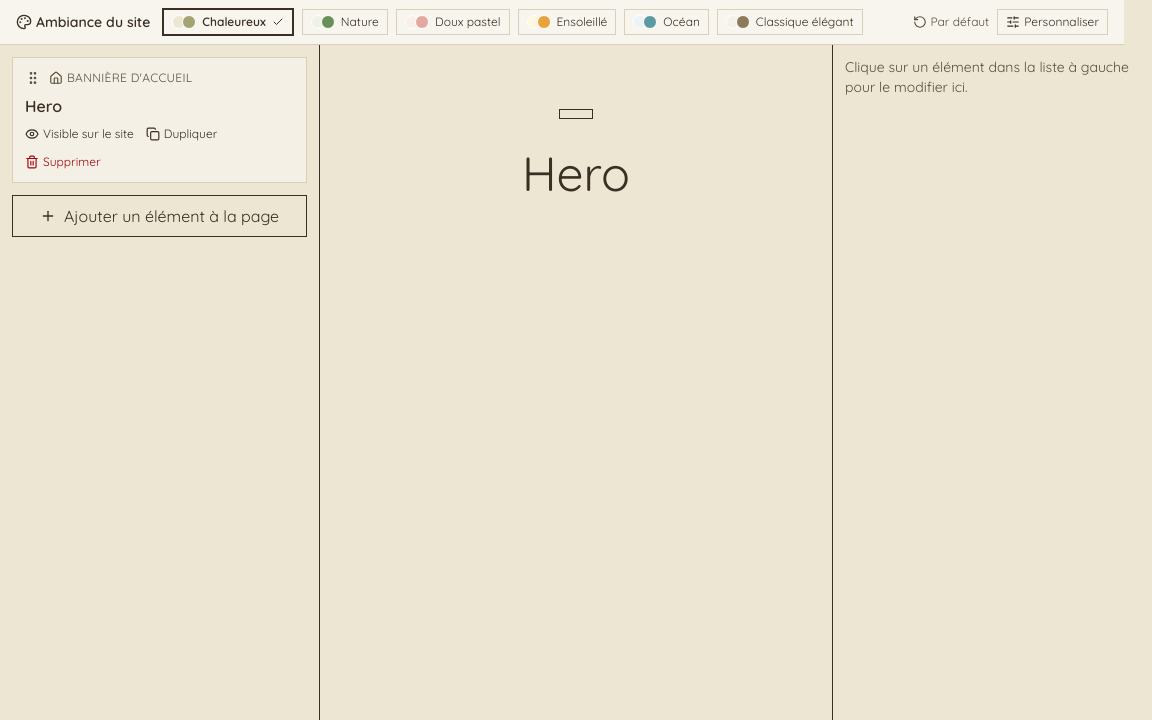
Scenario: AdminBuilder › selects a section and shows its editor form
Click the button with aria-label "Modifier « Hero »": point(130, 78) [25, 70, 217, 170]
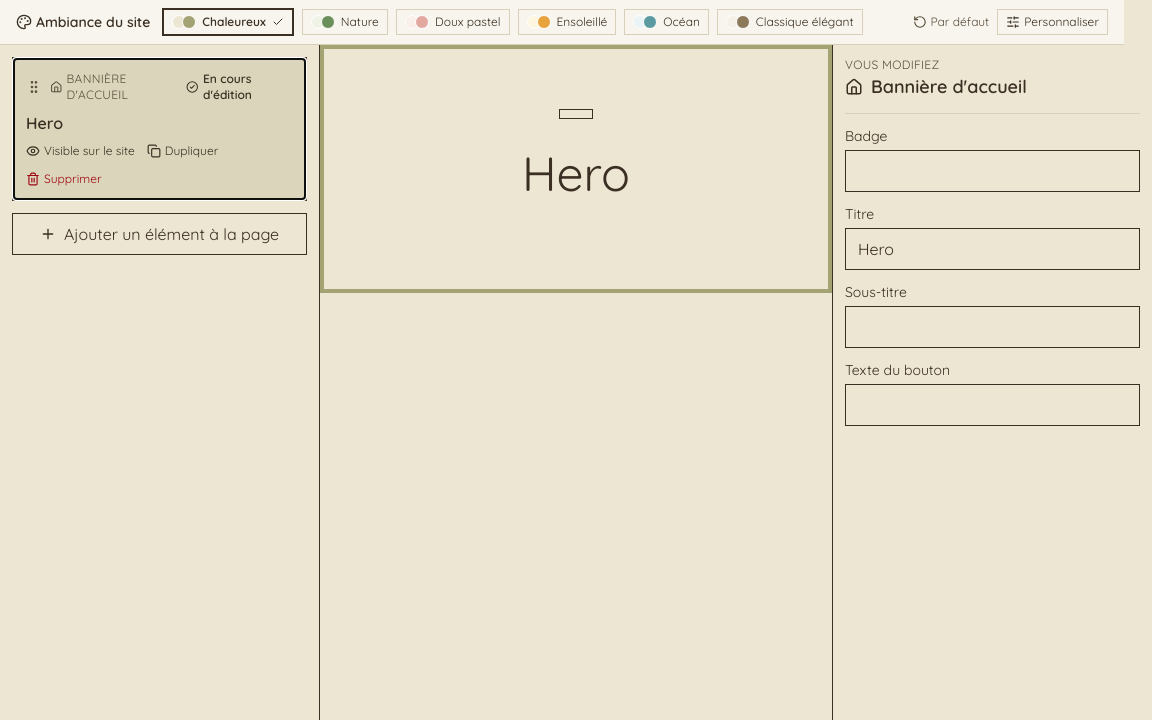
Expected: the field labelled "Titre" is shown, [845, 228, 1140, 270]
